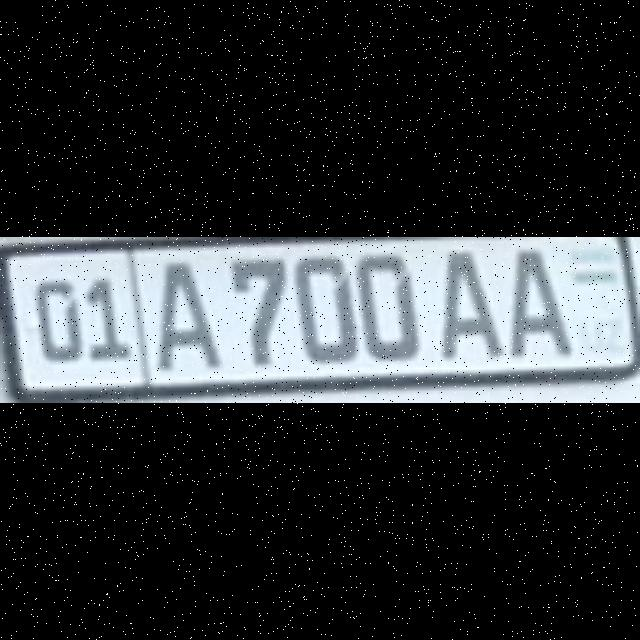0: (291, 253, 353, 361), (356, 250, 414, 358), (33, 280, 79, 358)
1: (89, 273, 128, 355)
7: (228, 257, 278, 361)
A: (157, 260, 219, 364), (509, 250, 568, 352), (441, 250, 493, 352)
